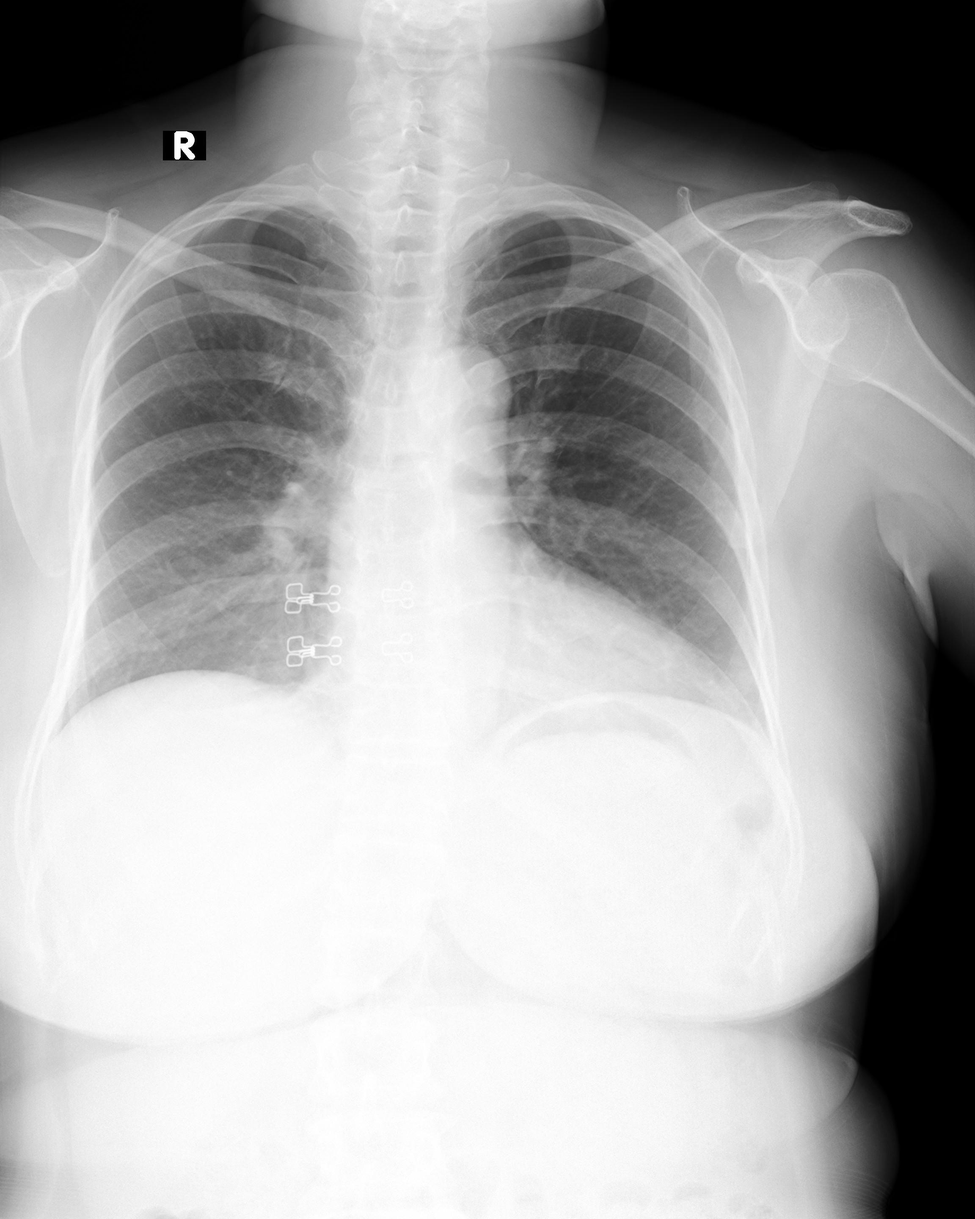Cardiomegaly: (315, 601, 728, 698)
